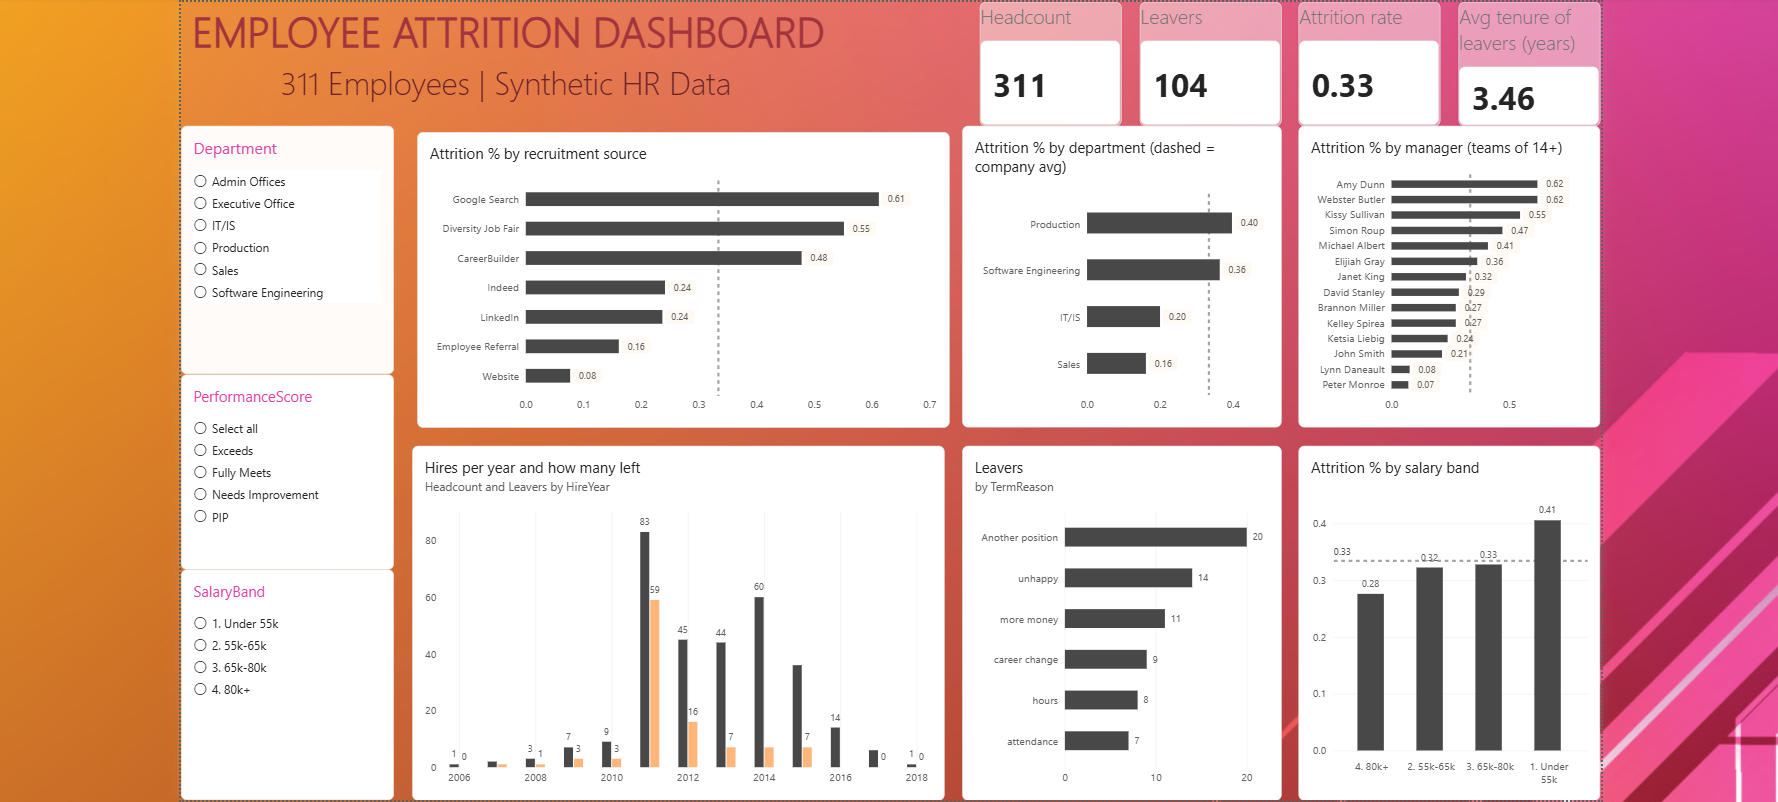

This screenshot's page, from the dashboard's own definition file:
{"tool":"powerbi","page":{"name":"Page 1","canvas":[1920,1080],"ordinal":0},"visuals":[{"type":"textbox","box":[0,0,1008,168],"z":0},{"type":"textbox","box":[16,80,848,80],"z":1000},{"type":"cardVisual","title":"Headcount","fields":{"Data":["employees.Headcount"]},"box":[1080,0,192,168],"z":2000},{"type":"cardVisual","title":"Leavers","fields":{"Data":["employees.Leavers"]},"box":[1296,0,192,168],"z":3000},{"type":"cardVisual","title":"Attrition rate","fields":{"Data":["employees.Attrition %"]},"box":[1512,0,192,168],"z":4000},{"type":"cardVisual","title":"Avg tenure of leavers (years)","fields":{"Data":["employees.Avg Tenure of Leavers"]},"box":[1728,0,192,168],"z":5000},{"type":"clusteredBarChart","title":"Attrition % by department (dashed = company avg)","fields":{"Category":["employees.Department"],"Y":["employees.Attrition %"]},"box":[1056,168,432,408],"z":6000},{"type":"clusteredBarChart","title":"Attrition % by recruitment source","fields":{"Category":["employees.RecruitmentSource"],"Y":["employees.Attrition %"]},"box":[320,176,720,400],"z":7000},{"type":"clusteredBarChart","title":"Attrition % by manager (teams of 14+)","fields":{"Category":["employees.ManagerName"],"Y":["employees.Attrition %"]},"box":[1512,168,408,408],"z":8000},{"type":"clusteredColumnChart","title":"Hires per year and how many left","fields":{"Category":["employees.HireYear"],"Y":["employees.Headcount","employees.Leavers"]},"box":[312,600,720,480],"z":9000},{"type":"clusteredColumnChart","title":"Attrition % by salary band","fields":{"Category":["employees.SalaryBand"],"Y":["employees.Attrition %"]},"box":[1512,600,408,480],"z":10000},{"type":"clusteredBarChart","fields":{"Category":["employees.TermReason"],"Y":["employees.Leavers"]},"box":[1056,600,432,480],"z":11000},{"type":"listSlicer","fields":{"Values":["employees.Department"]},"box":[0,168,288,336],"z":12000},{"type":"listSlicer","fields":{"Values":["employees.PerformanceScore"]},"box":[0,504,288,264],"z":13000},{"type":"listSlicer","fields":{"Values":["employees.SalaryBand"]},"box":[0,768,288,312],"z":14000}]}

Visuals, with their boxes in screenshot pixels (x1, y1, x2, y2):
textbox: pyautogui.locateOnScreen(190, 0, 927, 123)
textbox: pyautogui.locateOnScreen(202, 59, 822, 117)
"Headcount" cardVisual: pyautogui.locateOnScreen(980, 0, 1120, 123)
"Leavers" cardVisual: pyautogui.locateOnScreen(1138, 0, 1278, 123)
"Attrition rate" cardVisual: pyautogui.locateOnScreen(1296, 0, 1436, 123)
"Avg tenure of leavers (years)" cardVisual: pyautogui.locateOnScreen(1454, 0, 1594, 123)
"Attrition % by department (dashed = company avg)" clusteredBarChart: pyautogui.locateOnScreen(962, 123, 1278, 421)
"Attrition % by recruitment source" clusteredBarChart: pyautogui.locateOnScreen(424, 129, 951, 421)
"Attrition % by manager (teams of 14+)" clusteredBarChart: pyautogui.locateOnScreen(1296, 123, 1594, 421)
"Hires per year and how many left" clusteredColumnChart: pyautogui.locateOnScreen(418, 439, 945, 790)
"Attrition % by salary band" clusteredColumnChart: pyautogui.locateOnScreen(1296, 439, 1594, 790)
clusteredBarChart - employees.TermReason x employees.Leavers: pyautogui.locateOnScreen(962, 439, 1278, 790)
listSlicer - employees.Department: pyautogui.locateOnScreen(190, 123, 400, 369)
listSlicer - employees.PerformanceScore: pyautogui.locateOnScreen(190, 369, 400, 562)
listSlicer - employees.SalaryBand: pyautogui.locateOnScreen(190, 562, 400, 790)
